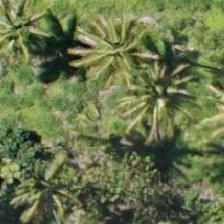coconut_tree: (73, 0, 163, 90), (99, 60, 189, 150), (0, 143, 74, 223), (0, 0, 50, 71)
